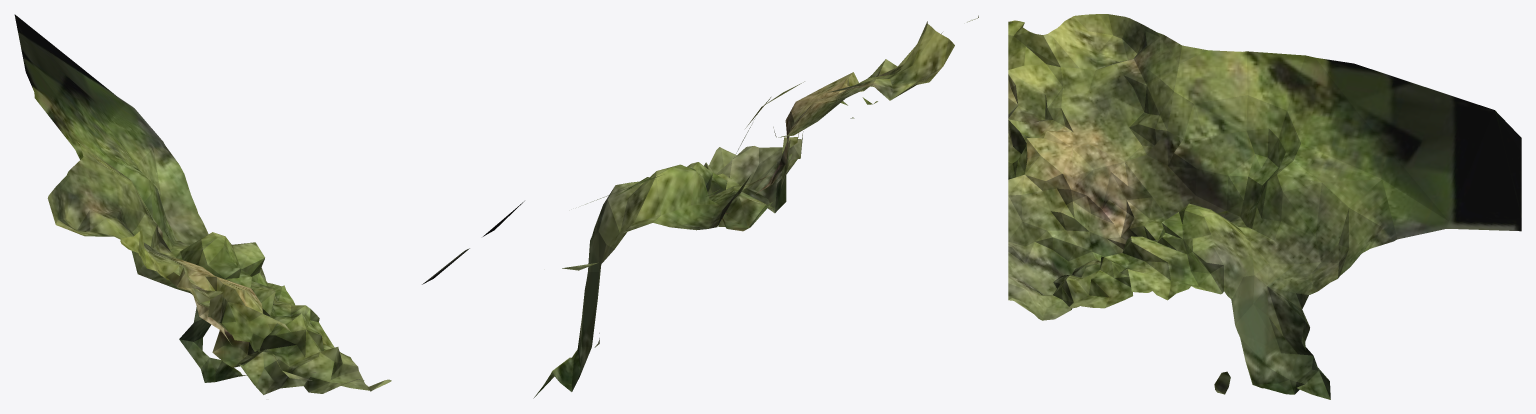
3 views of the same model, side by side, from view 1: azimuth 30°, elevation 25°; view 2: azimuth 150°, elevation 25°; view 3: azimuth 270°, elevation 25° (orthographic). The views are drawn at different scales.
Bounding box in the file's own units: 12.73 × 13.78 × 23.6.
Materials: 2 (2 with a texture image).
